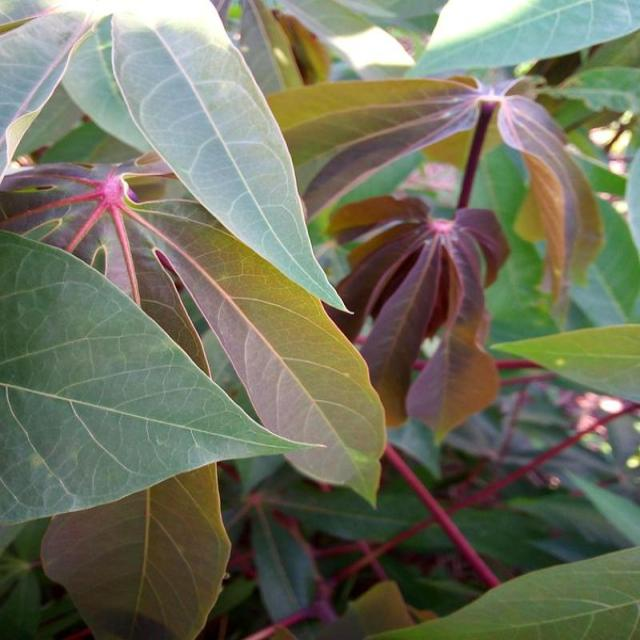cassava leaf: (0, 225, 323, 527), (110, 0, 354, 314)
